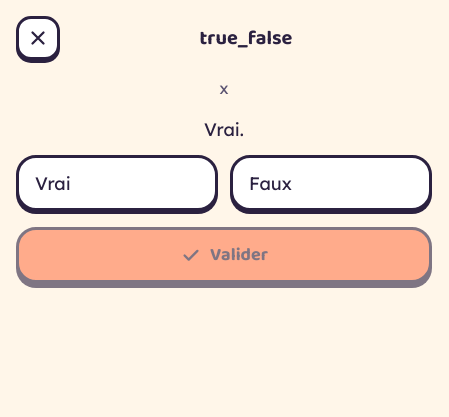
Scenario: GameScreen, the joy dance › a streak bonus: joy, the streak's words, and the dance
Click the button "Vrai" at (117, 183), box [16, 155, 218, 211]
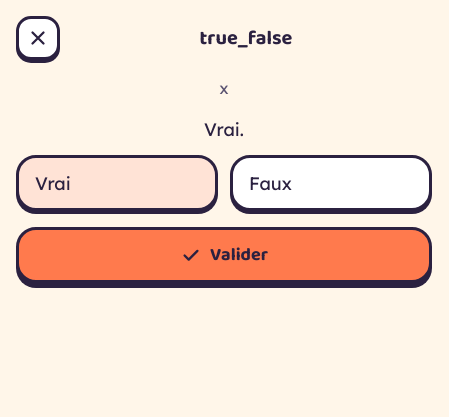
Click the button "Valider" at (224, 255), box [16, 227, 432, 283]
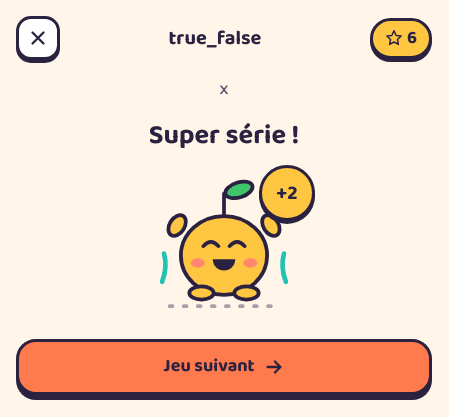
Result: the button "Jeu suivant" is shown at [16, 338, 432, 394]
Result: the text "Super série !" is shown at [149, 116, 299, 156]
